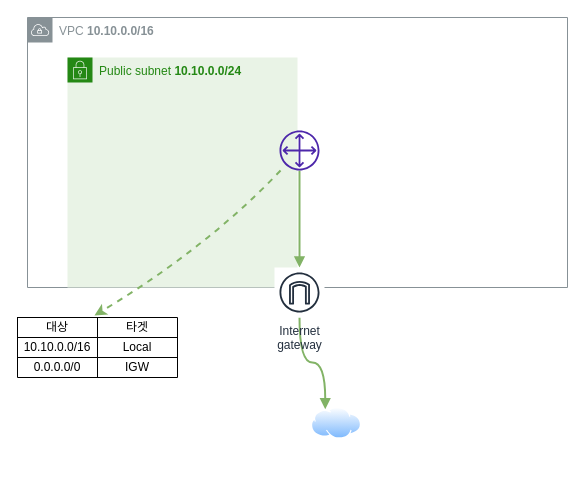
Some shapes in this 585 by 480 pixel diagram are drawn without their labels. Each missing label, with the centre of its shape:
"Internet" belongs at (x=336, y=422).
"가상 라우터" belongs at (x=299, y=150).
